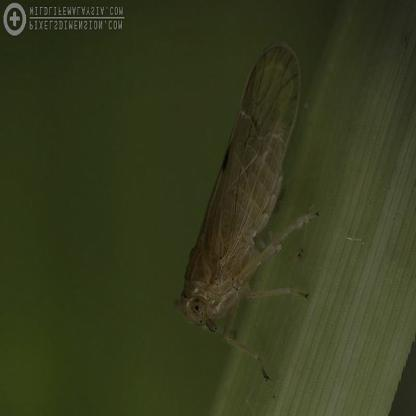brown-planthopper: (174, 39, 312, 348)
